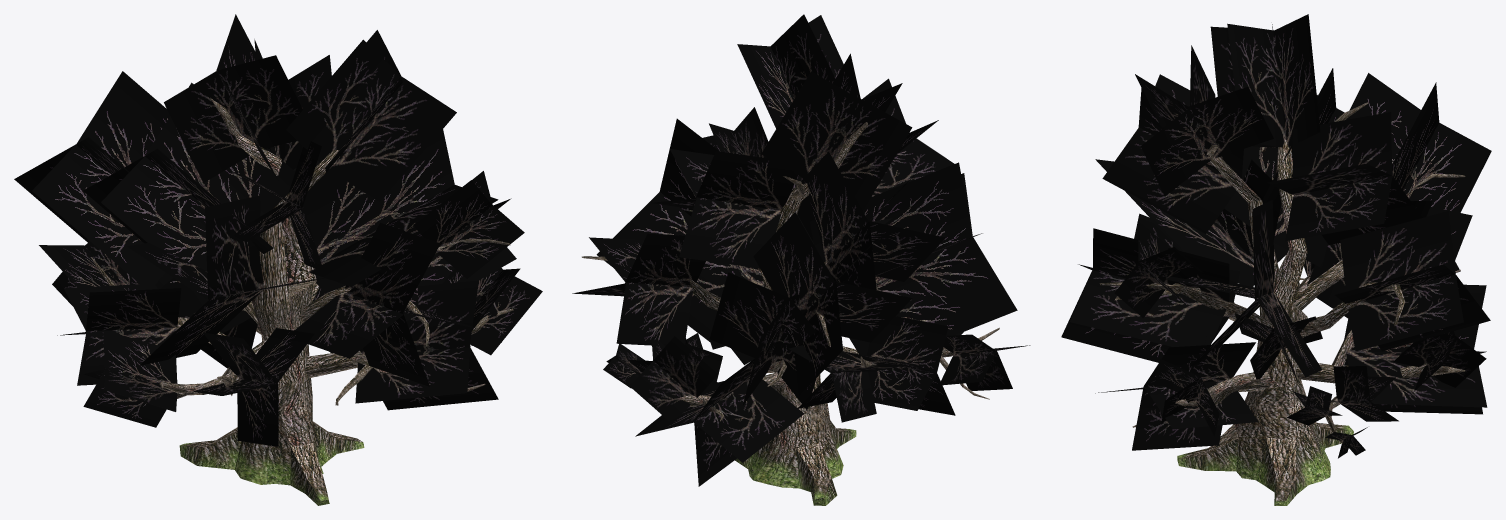
File: tree1_2.glb
3 views of the same model, side by side, from view 1: azimuth 30°, elevation 25°; view 2: azimuth 150°, elevation 25°; view 3: azimuth 270°, elevation 25° (orthographic). The views are drawn at different scales.
Visible parts, largest first — view 1: tree1_2; view 2: tree1_2; view 3: tree1_2.
Part boxes in pixels (bbox=[...]): tree1_2: bbox=[14, 14, 542, 505]; tree1_2: bbox=[572, 14, 1030, 505]; tree1_2: bbox=[1061, 14, 1491, 505].
Bounding box in the file's own units: 15.85 × 16.02 × 14.19.
Materials: 3 (3 with a texture image).
